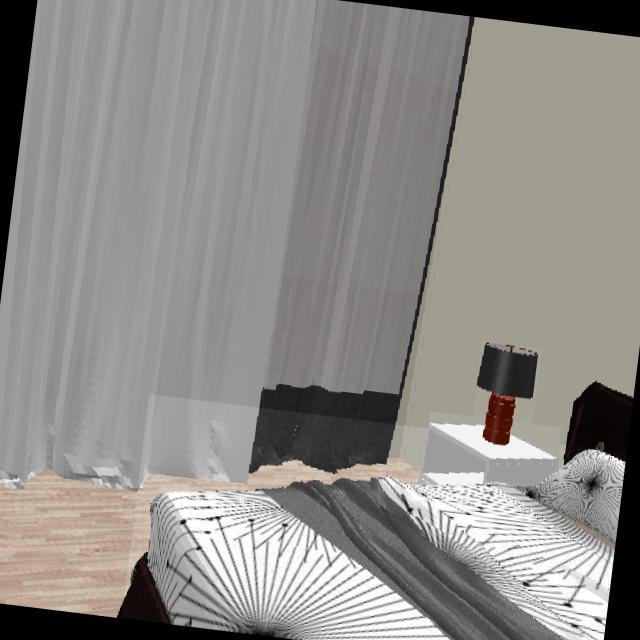bed: (121, 450, 625, 640)
lamp: (476, 342, 539, 448)
nighttable: (423, 415, 556, 483)
